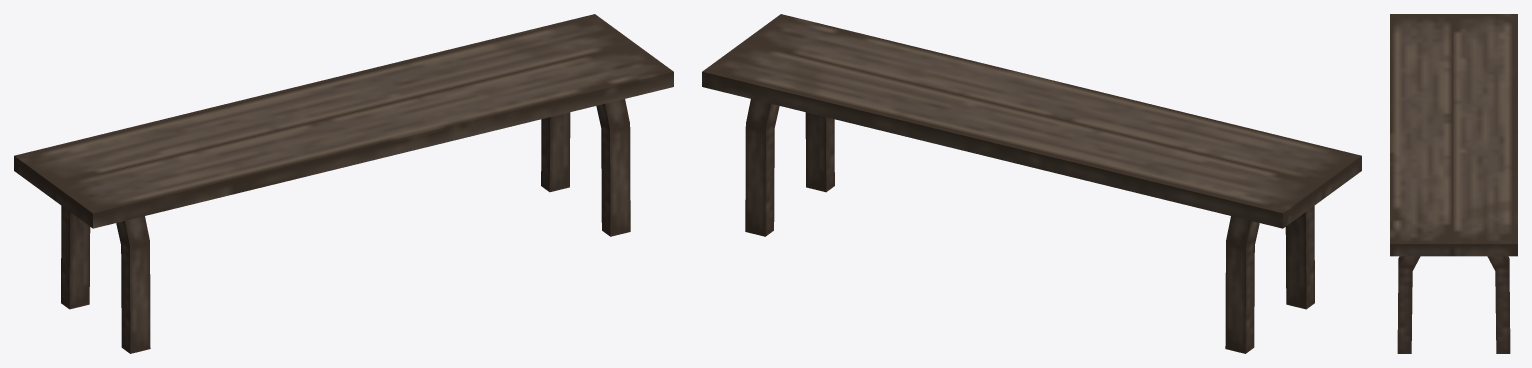
The model's file is wooden_chair1.fbx.
The picture shows the model from 3 angles, left to right: view 1: azimuth 30°, elevation 25°; view 2: azimuth 150°, elevation 25°; view 3: azimuth 270°, elevation 25°; orthographic projection. The views are drawn at different scales.
Parts seen in each view (by area): view 1: Cube__32_31; view 2: Cube__32_31; view 3: Cube__32_31.
Boxes of the visible parts, left/top/right/bottom form: Cube__32_31: left=14, top=14, right=673, bottom=353; Cube__32_31: left=702, top=14, right=1361, bottom=353; Cube__32_31: left=1390, top=14, right=1517, bottom=353.
Bounding box in the file's own units: 355 × 89.99 × 83.35.
